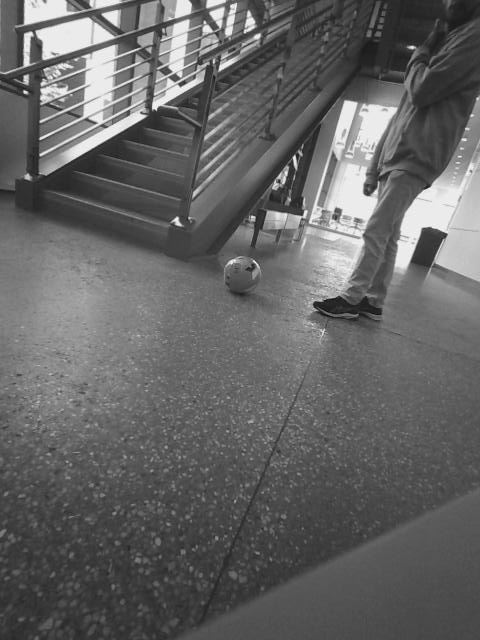ball: (175, 290, 266, 378)
